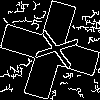X: (25, 25, 79, 70)
